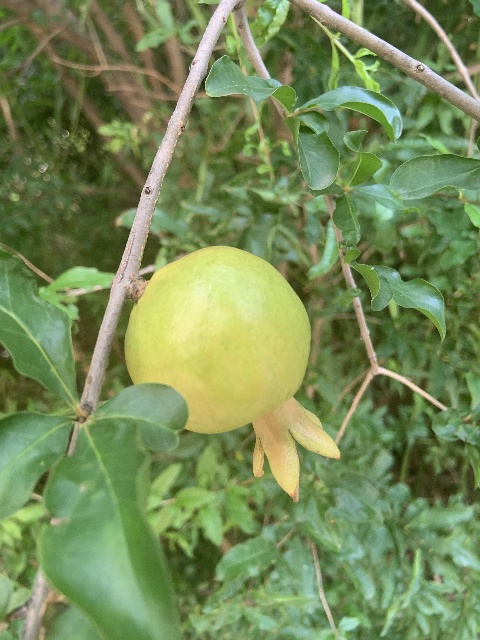mid-growth: (124, 245, 340, 503)
